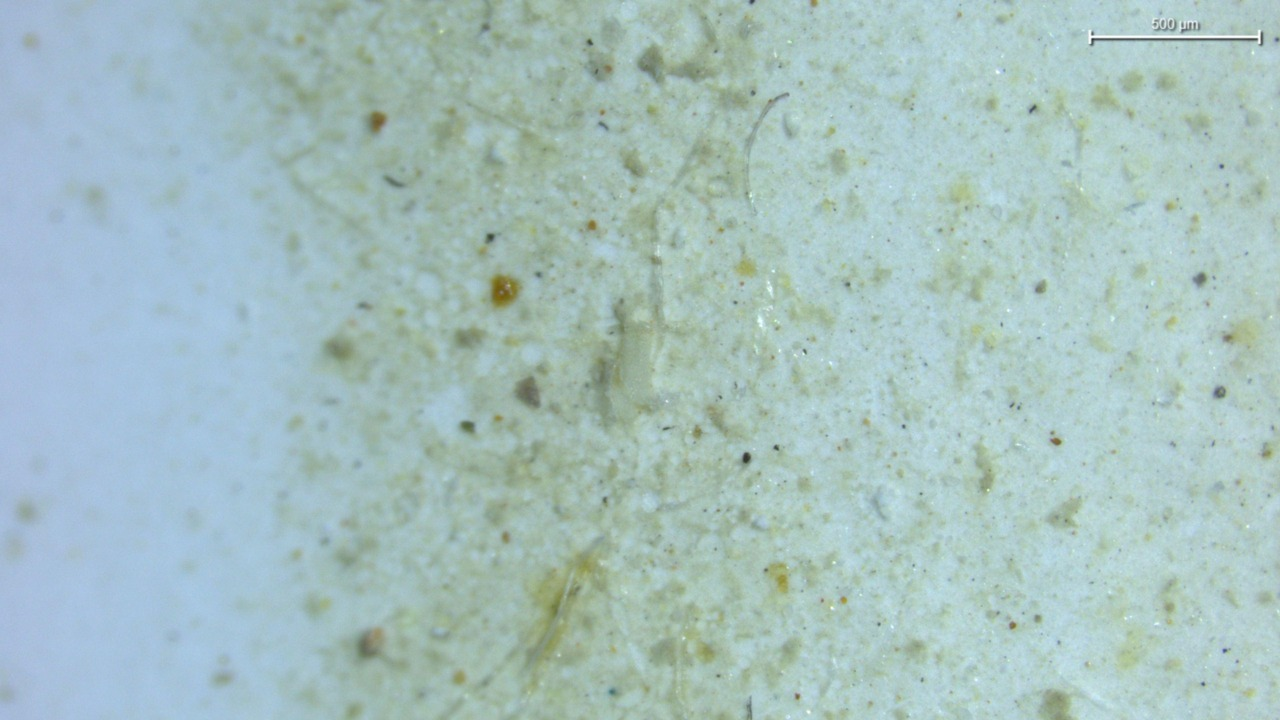microplastic_fragment: (607, 315, 656, 419)
